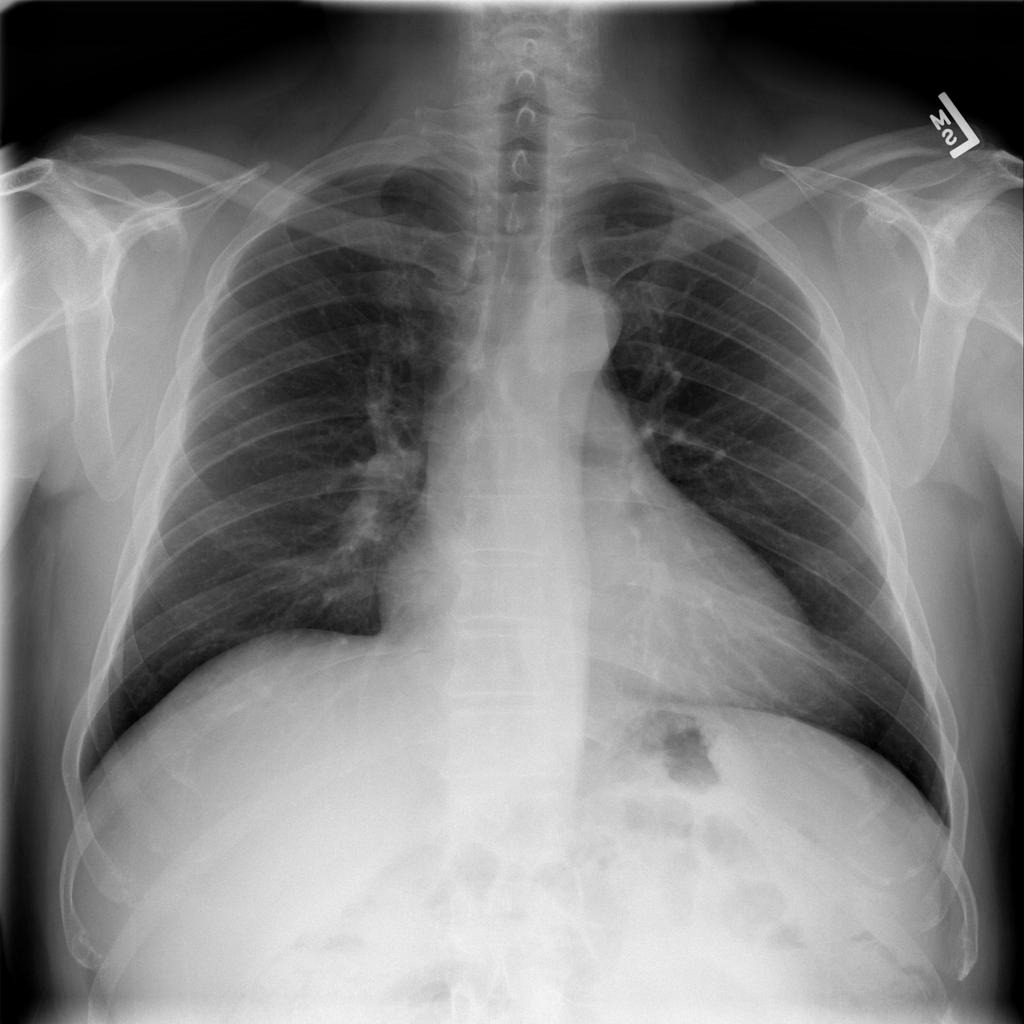Cardiomegaly: (353, 378, 847, 782)
